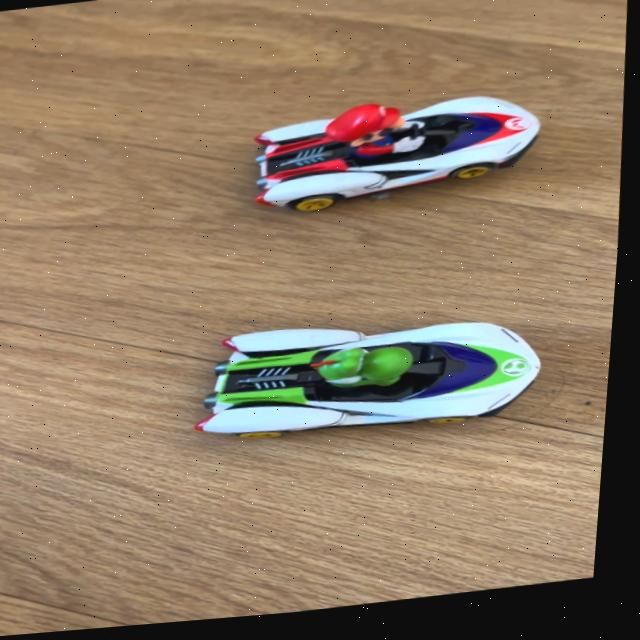mario: (246, 87, 558, 228)
yoshi: (194, 307, 560, 456)
